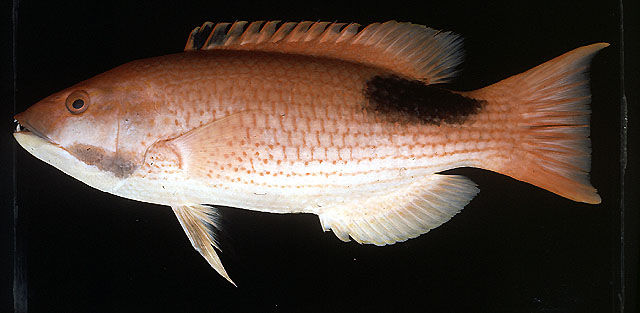fish: (12, 17, 611, 290)
